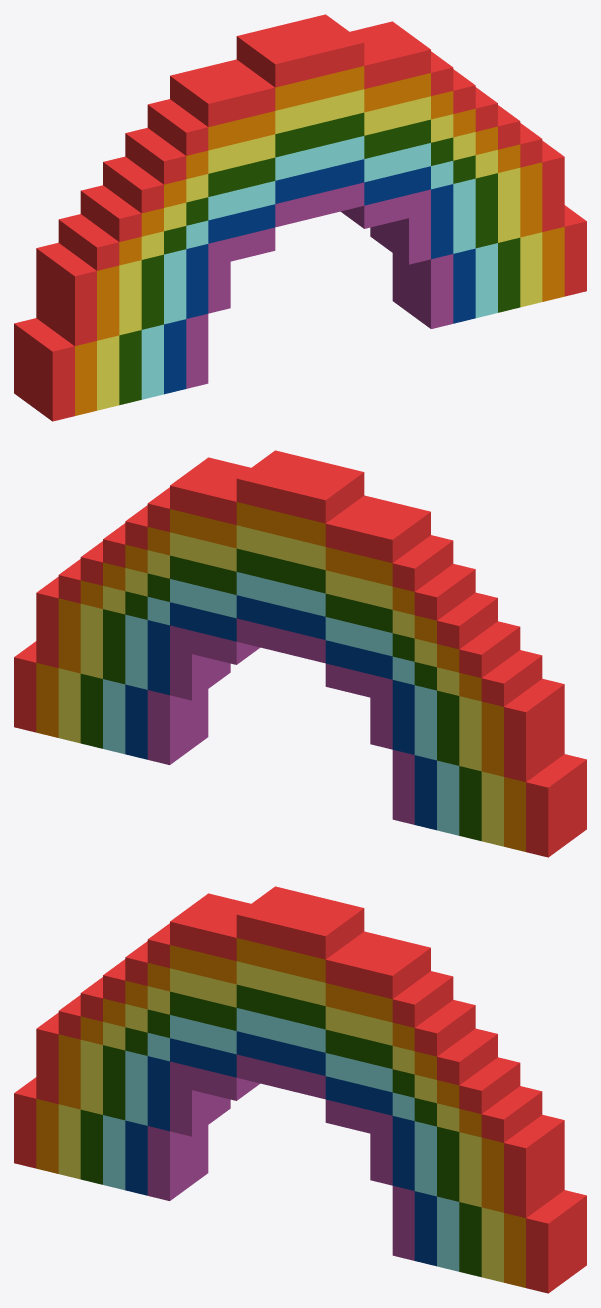
Rendered from lv15 rainbow.fbx.
3 renders of one model, top to bottom at view 1: azimuth 30°, elevation 25°; view 2: azimuth 150°, elevation 25°; view 3: azimuth 330°, elevation 25°, orthographic.
Parts seen in each view (by area): view 1: pCube4504, pCube4546, pCube4534, pCube4484, pCube4520, pCube4511, pCube4543, pCube168, pCube4478, pCube4570, pCube194, pCube184 (+188 smaller); view 2: pCube4661, pCube4664, pCube4677, pCube4671, pCube4679, pCube4639, pCube4769, pCube4803, pCube4720, pCube4668, pCube4632, pCube4742 (+188 smaller); view 3: pCube4573, pCube4600, pCube4630, pCube4587, pCube4611, pCube4567, pCube4591, pCube4623, pCube4616, pCube4459, pCube4621, pCube4458 (+188 smaller).
Part boxes in pixels (x1,y1,x2,y2): pCube4504: (106,204,141,241); pCube4546: (173,118,208,155); pCube4534: (262,49,297,87); pCube4484: (84,233,119,270); pCube4520: (151,146,186,184); pCube4511: (128,175,163,213); pCube4543: (195,89,230,126); pCube168: (39,337,74,374); pCube4478: (62,261,96,299); pCube4570: (418,273,453,305); pCube194: (39,389,74,421); pCube184: (39,366,74,398); pCube4661: (459,640,494,677); pCube4664: (392,554,427,591); pCube4677: (303,485,338,523); pCube4671: (414,582,449,620); pCube4679: (481,669,516,706); pCube4639: (437,611,472,649); pCube4769: (370,525,405,562); pCube4803: (526,773,561,810); pCube4720: (504,697,538,735); pCube4668: (147,709,182,741); pCube4632: (526,825,561,857); pCube4742: (147,733,182,764); pCube4573: (392,990,427,1027); pCube4600: (459,1076,494,1113); pCube4630: (303,921,338,959); pCube4587: (414,1018,449,1056); pCube4611: (481,1105,516,1142); pCube4567: (370,961,405,998); pCube4591: (437,1047,472,1085); pCube4623: (526,1209,561,1246); pCube4616: (504,1133,538,1171); pCube4459: (147,1145,182,1177); pCube4621: (526,1261,561,1293); pCube4458: (147,1169,182,1200).
Size of the model in its own units: 24 by 13 by 3.
